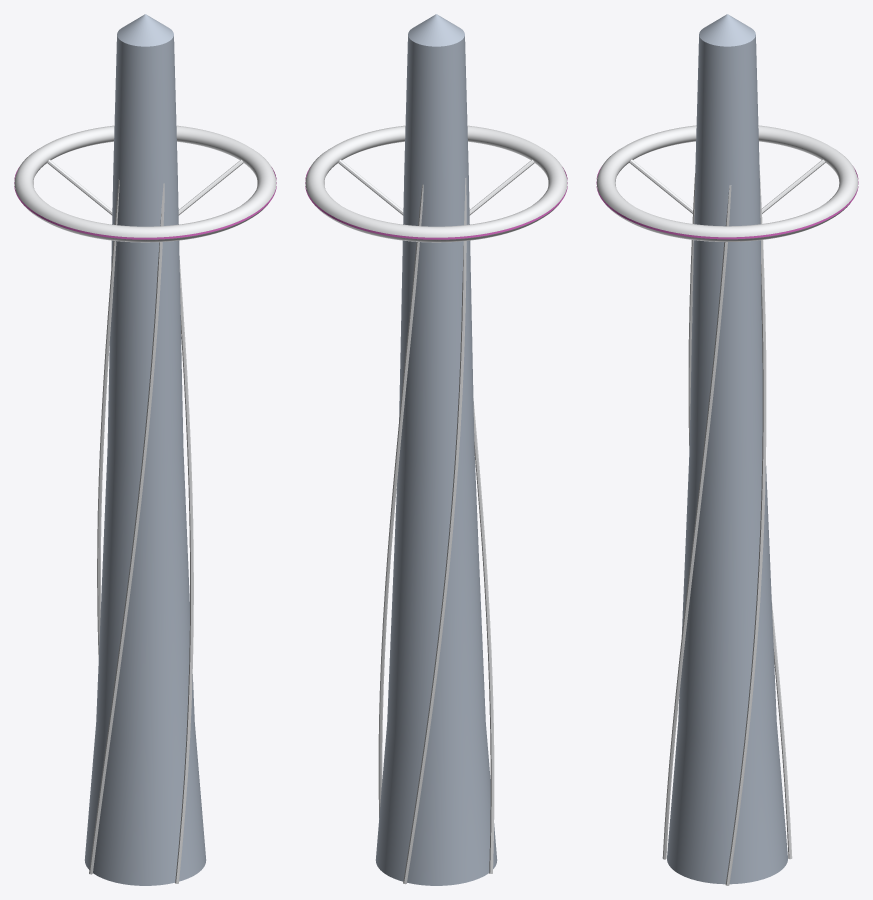
Rendered from SM_NeomTower_Halo.fbx.
The picture shows the model from 3 angles, left to right: view 1: azimuth 30°, elevation 25°; view 2: azimuth 150°, elevation 25°; view 3: azimuth 270°, elevation 25°; orthographic projection.
Visible parts, largest first — view 1: SM_NeomTower_Halo; view 2: SM_NeomTower_Halo; view 3: SM_NeomTower_Halo.
Boxes of the visible parts, <box> form: SM_NeomTower_Halo: <box>14,14,276,885</box>; SM_NeomTower_Halo: <box>305,14,567,885</box>; SM_NeomTower_Halo: <box>596,14,858,885</box>.
Size of the model in its own units: 6920 by 24607 by 6920.
